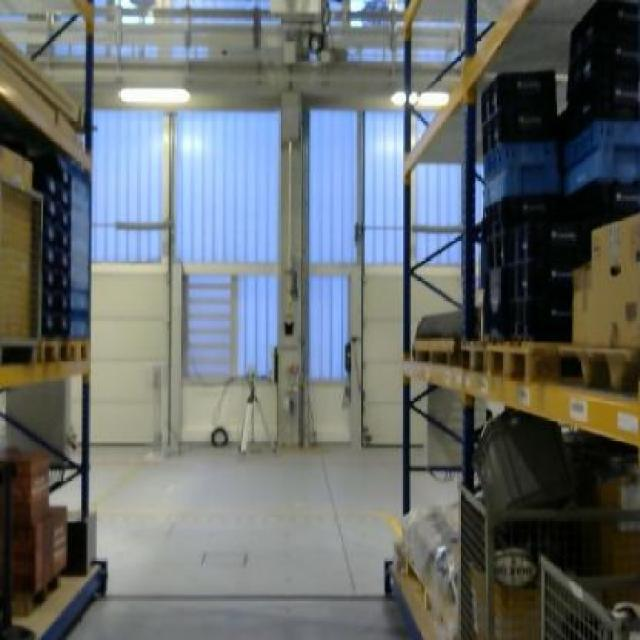box: (586, 209, 640, 348), (1, 147, 32, 336), (568, 264, 594, 348)
